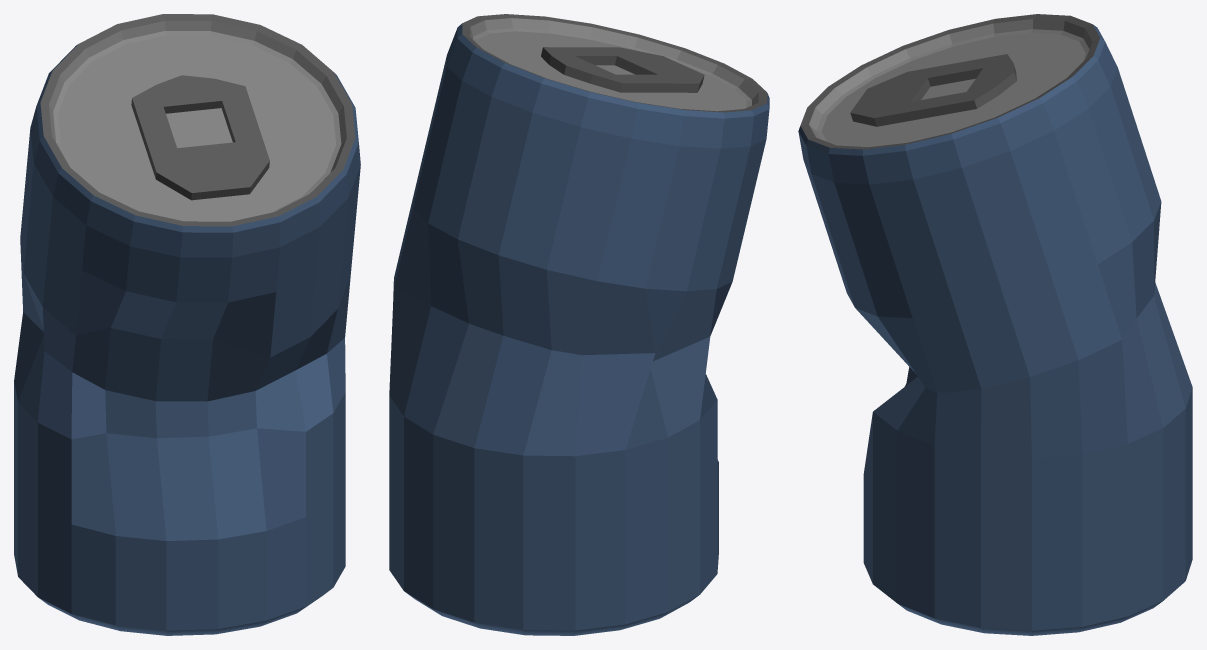
Rendered from Can.fbx.
3 renders of one model, left to right at view 1: azimuth 30°, elevation 25°; view 2: azimuth 150°, elevation 25°; view 3: azimuth 270°, elevation 25°, orthographic.
Visible parts, largest first — view 1: Jaden_Can1; view 2: Jaden_Can1; view 3: Jaden_Can1.
Part boxes in pixels (<box>): Jaden_Can1: <box>14,14,360,635</box>; Jaden_Can1: <box>389,14,769,635</box>; Jaden_Can1: <box>798,14,1192,635</box>.
Size of the model in its own units: 0.1362 by 0.2251 by 0.1537.
